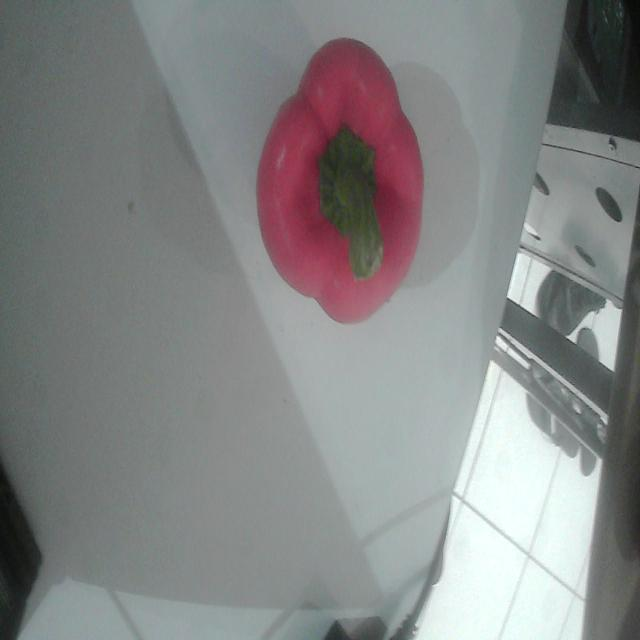Bell Pepper: (257, 38, 423, 323)
